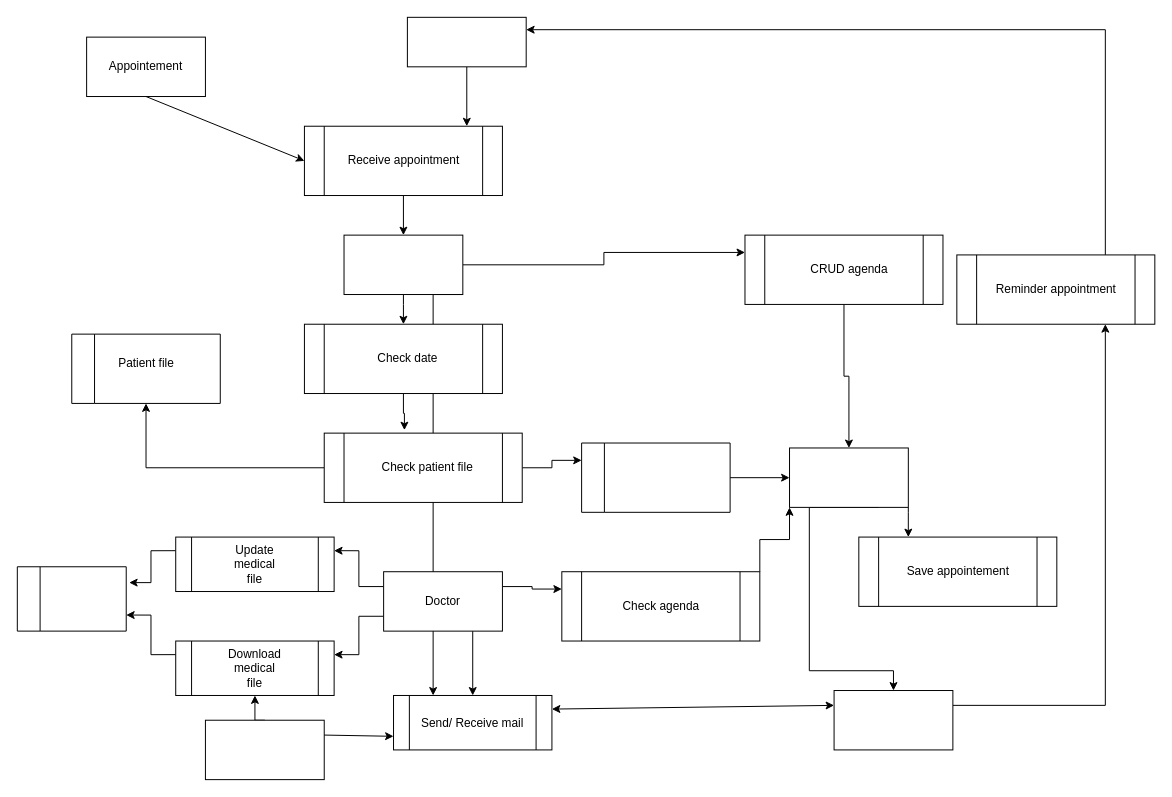
Some shapes in this 1172 by 797 pixel diagram are drawn without their labels. Here are the shapes that lost their labels. From the top down, the box of each, then its label:
(406, 16, 526, 67): Patient
(343, 234, 463, 295): Secretary
(581, 442, 730, 512): Appointements
(789, 447, 908, 507): Agenda
(16, 566, 126, 631): Medical patient file
(833, 690, 953, 750): Mail Server
(204, 719, 324, 780): Colleague Doctor
